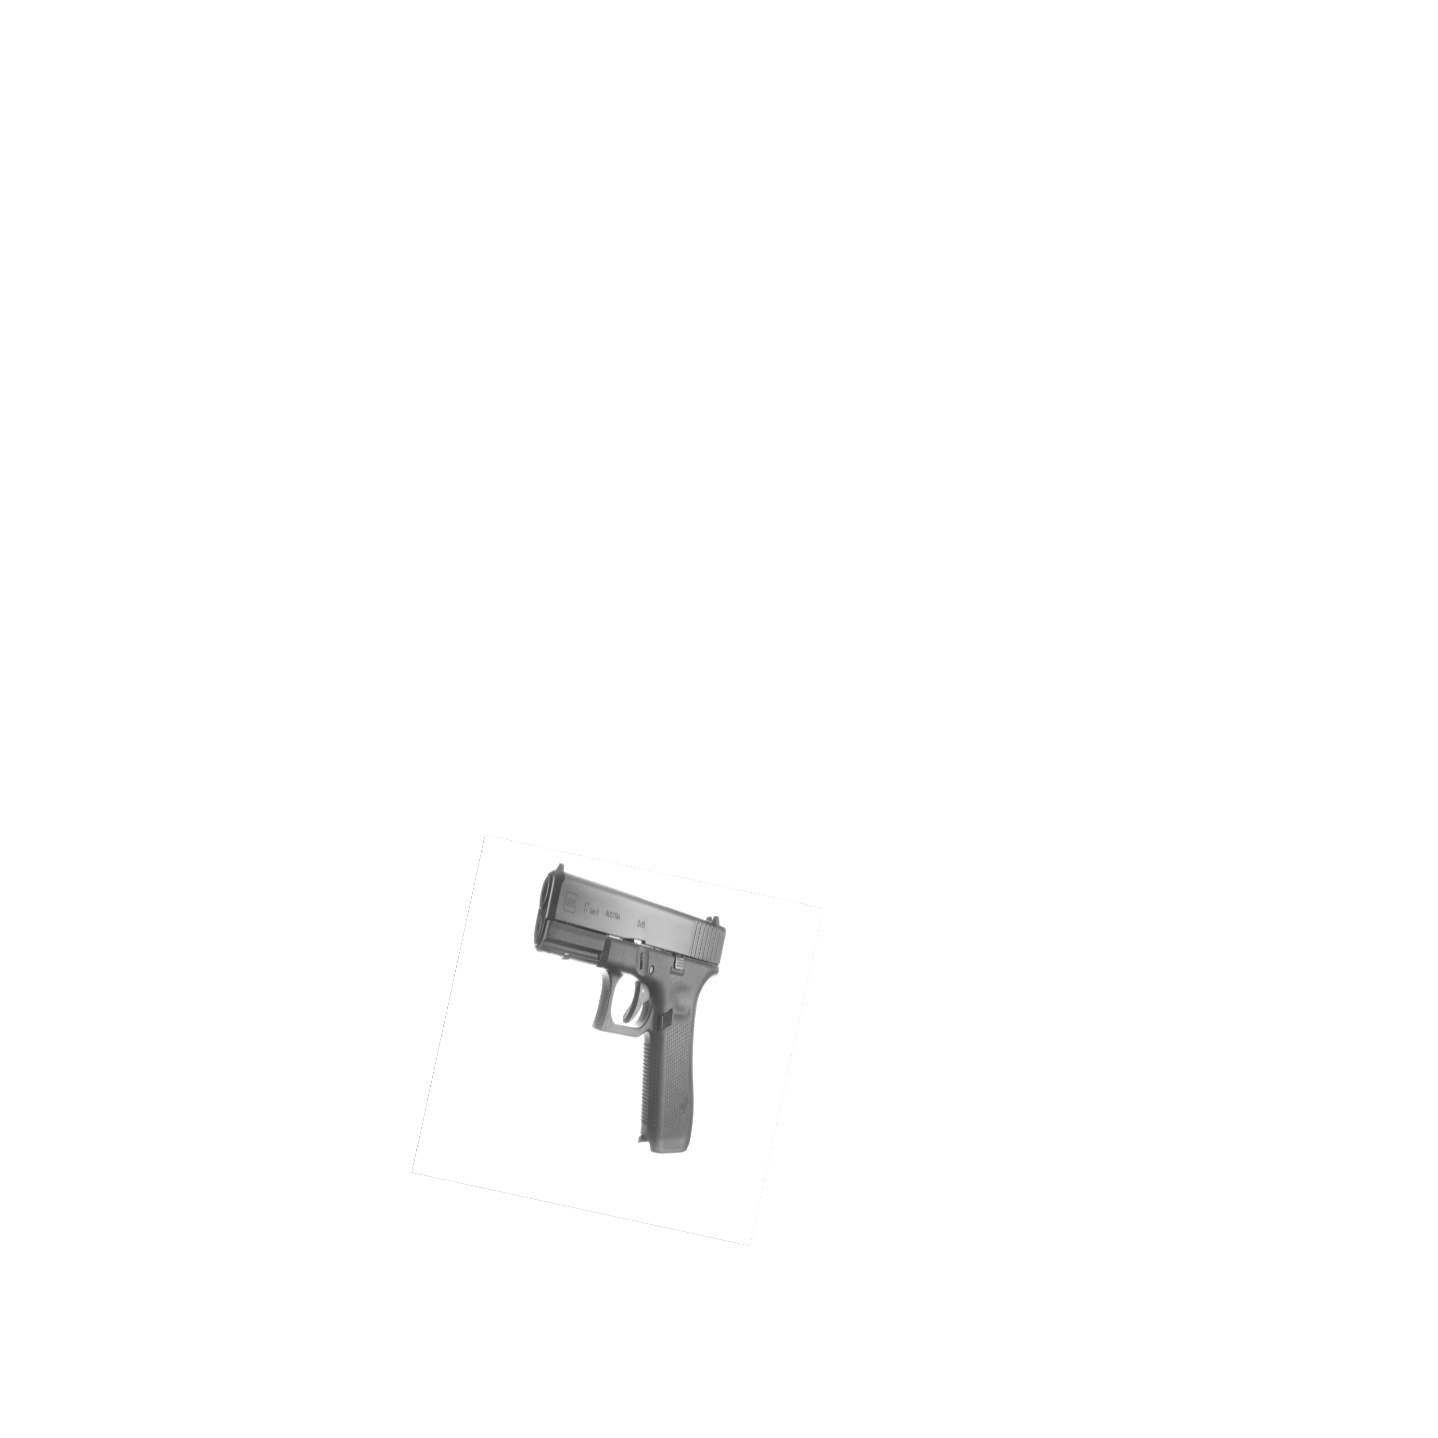gun: (533, 863, 726, 1154)
